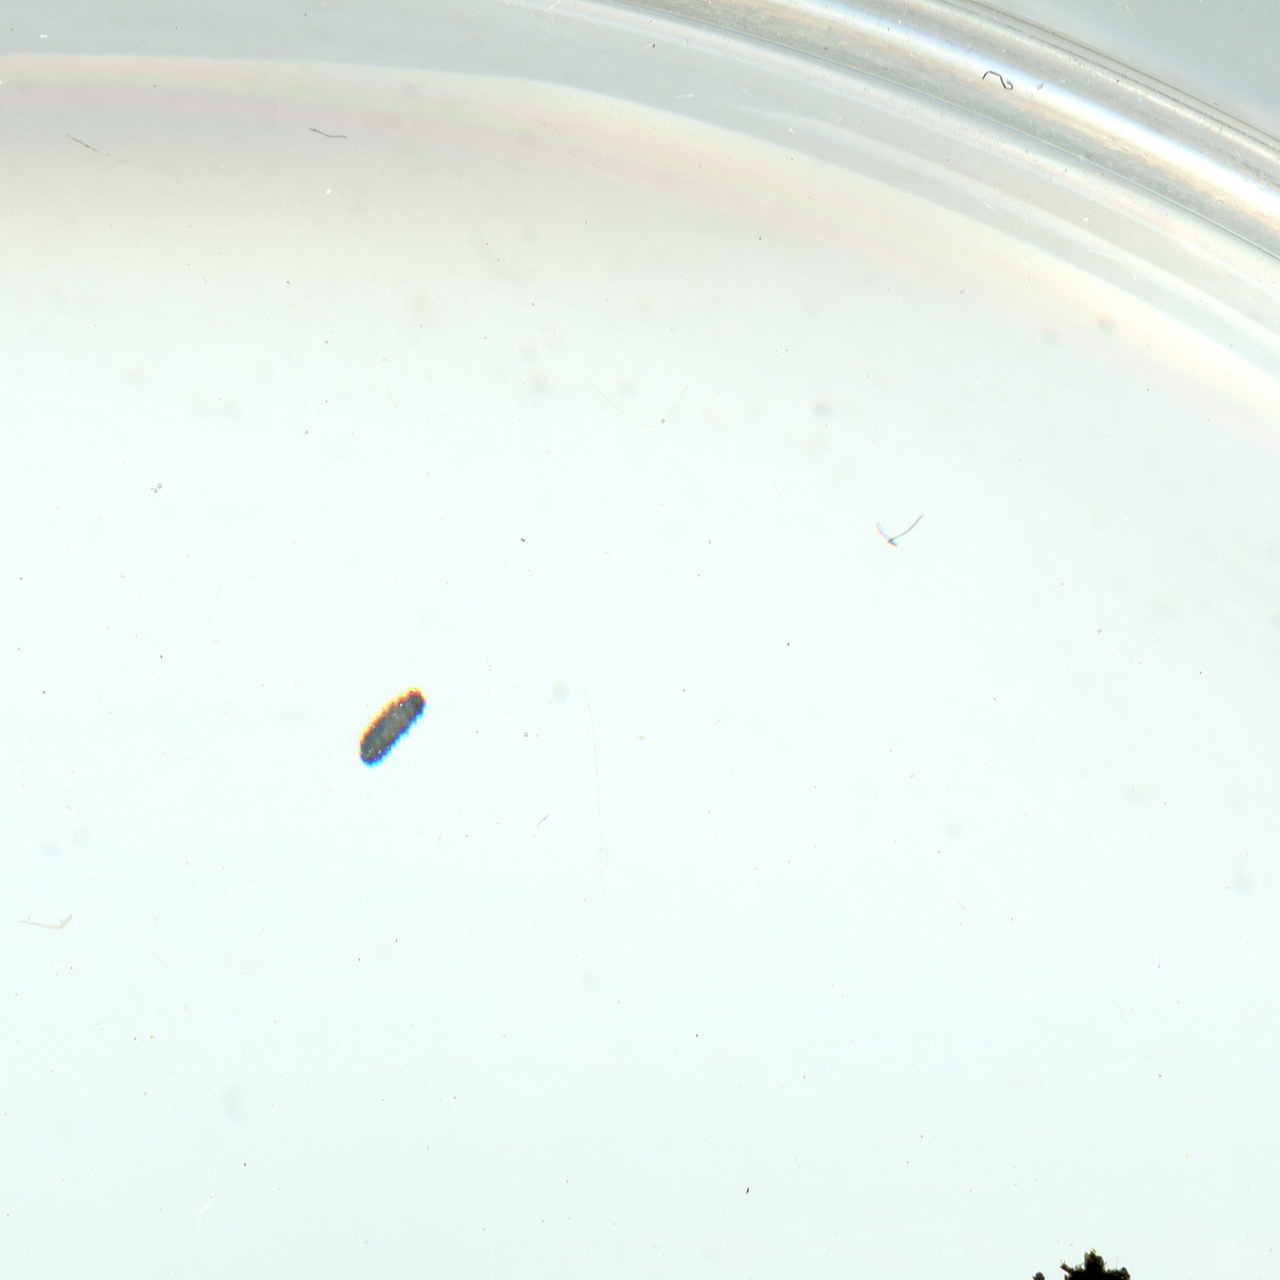arthropod: (337, 668, 441, 785)
